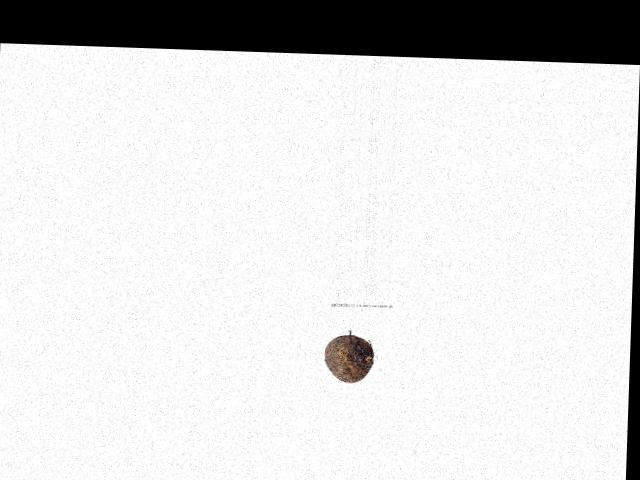beet: (322, 334, 373, 382)
